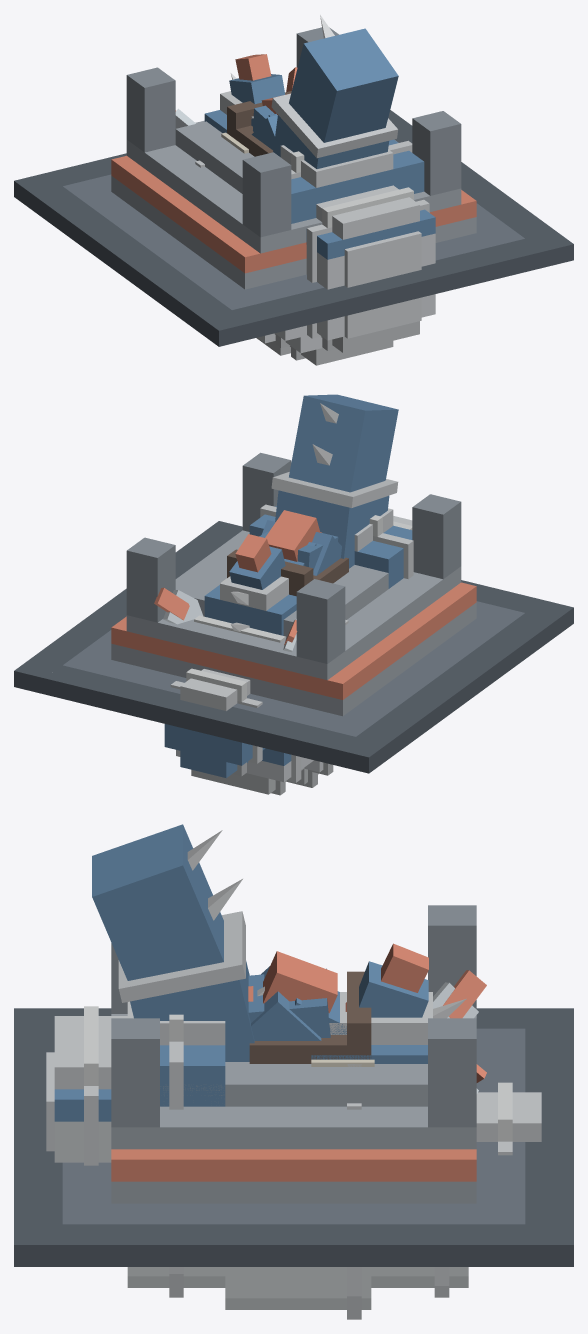
The model's file is Trainer6.glb.
3 renders of one model, top to bottom at view 1: azimuth 30°, elevation 25°; view 2: azimuth 150°, elevation 25°; view 3: azimuth 270°, elevation 25°, orthographic. The views are drawn at different scales.
Visible parts, largest first — view 1: Stand, Body, Head, T1; view 2: Stand, Body, Head, Fin, T1, T2; view 3: Stand, Body, Head, Fin, T1, T2.
Part boxes in pixels (<box>): Stand: <box>14,27,573,346</box>; Body: <box>195,14,435,365</box>; Head: <box>175,54,297,156</box>; T1: <box>251,115,277,150</box>; Stand: <box>14,452,573,773</box>; Body: <box>164,394,413,795</box>; Head: <box>154,534,335,652</box>; Fin: <box>265,510,321,561</box>; T1: <box>261,520,341,575</box>; T2: <box>259,531,338,570</box>; Stand: <box>14,905,573,1266</box>; Body: <box>46,824,541,1319</box>; Head: <box>287,943,486,1093</box>; Fin: <box>248,951,346,1013</box>; T1: <box>251,966,321,1040</box>; T2: <box>248,968,330,1037</box>.
Bounding box in the file's own units: 9.2 × 8.36 × 9.2.
